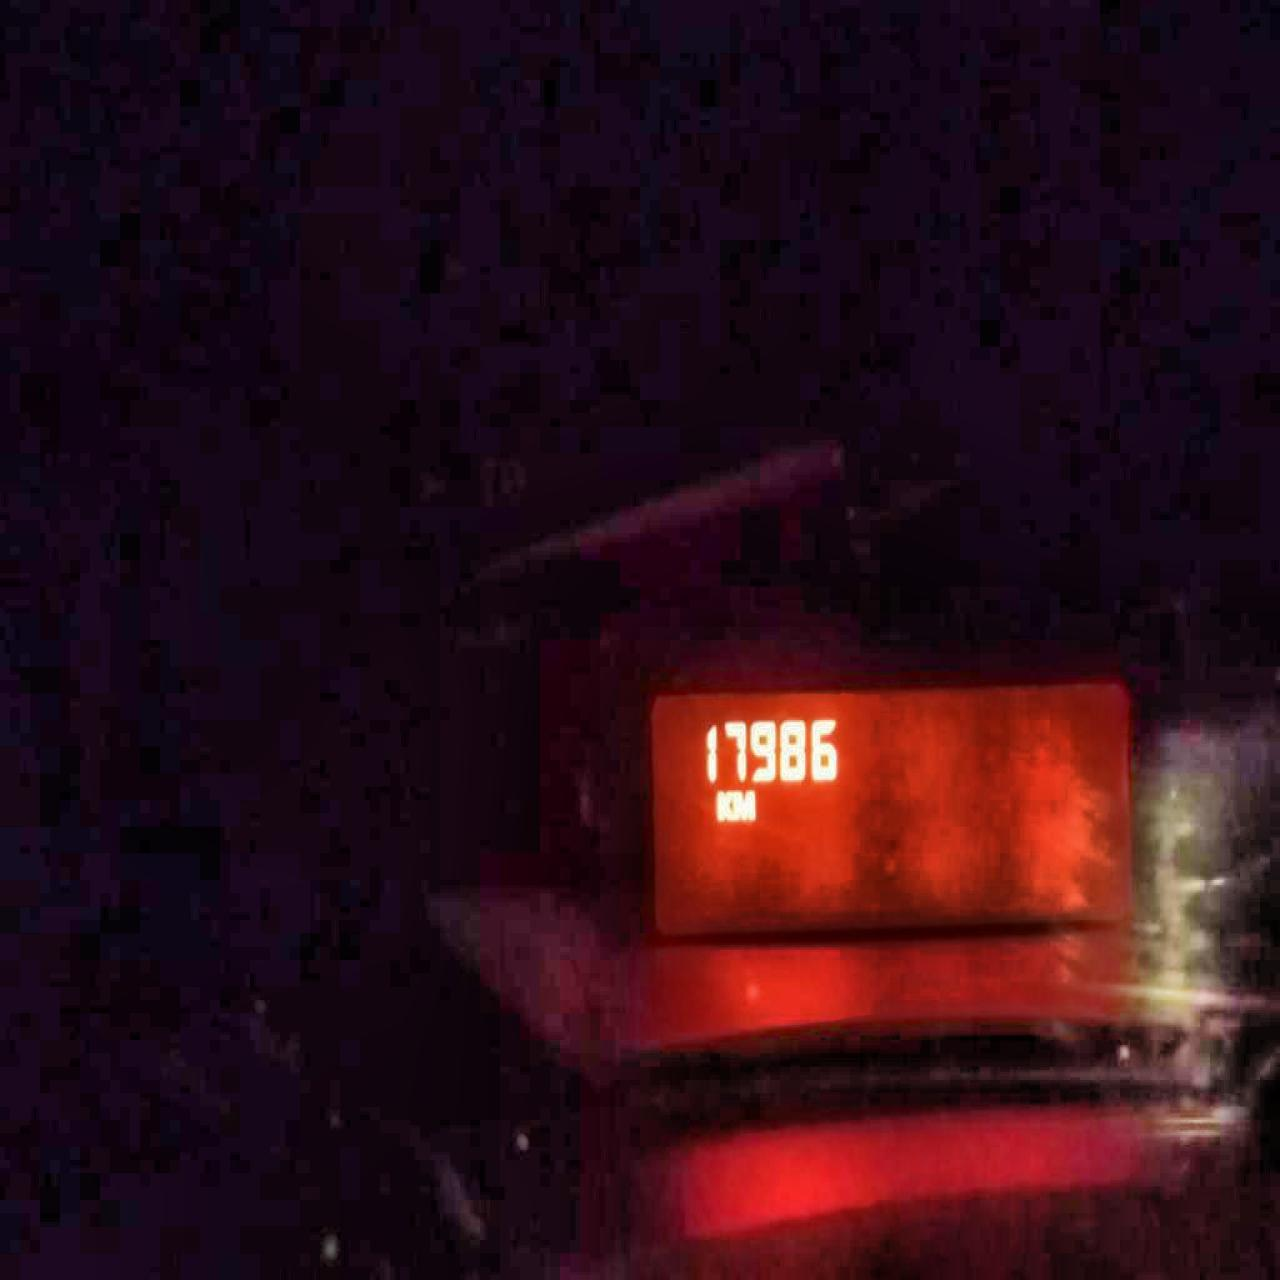1: (703, 722, 717, 783)
6: (806, 716, 839, 783)
7: (722, 716, 747, 783)
8: (777, 716, 806, 782)
9: (748, 716, 776, 782)
X: (733, 788, 756, 822), (714, 787, 733, 823)
odometer: (641, 667, 1143, 944)
